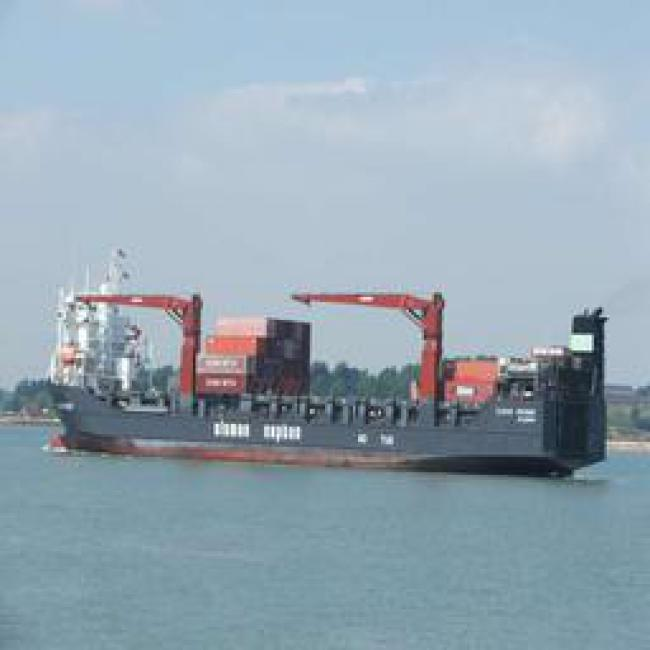Ship: (46, 277, 612, 476)
